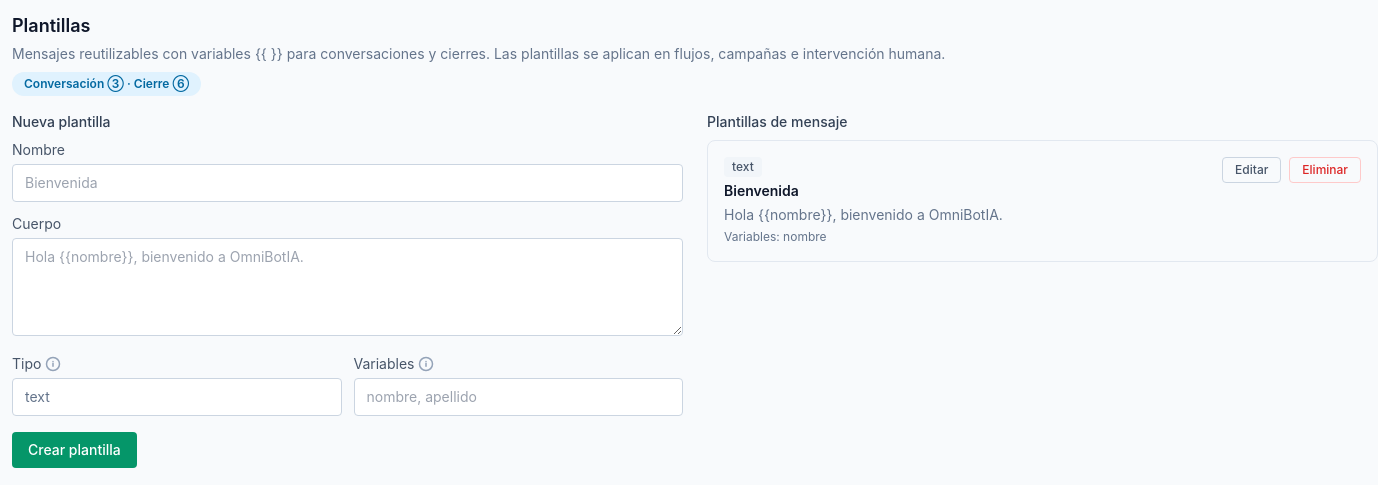
Test: TemplatesSection › elimina una plantilla y vuelve al estado vacío
This screenshot has width=1378, height=485.
Expected: the heading "Bienvenida" is shown, [724,182,799,199]
Step 1. Click the button "Eliminar" → (1325, 170), box [1289,157,1361,183]
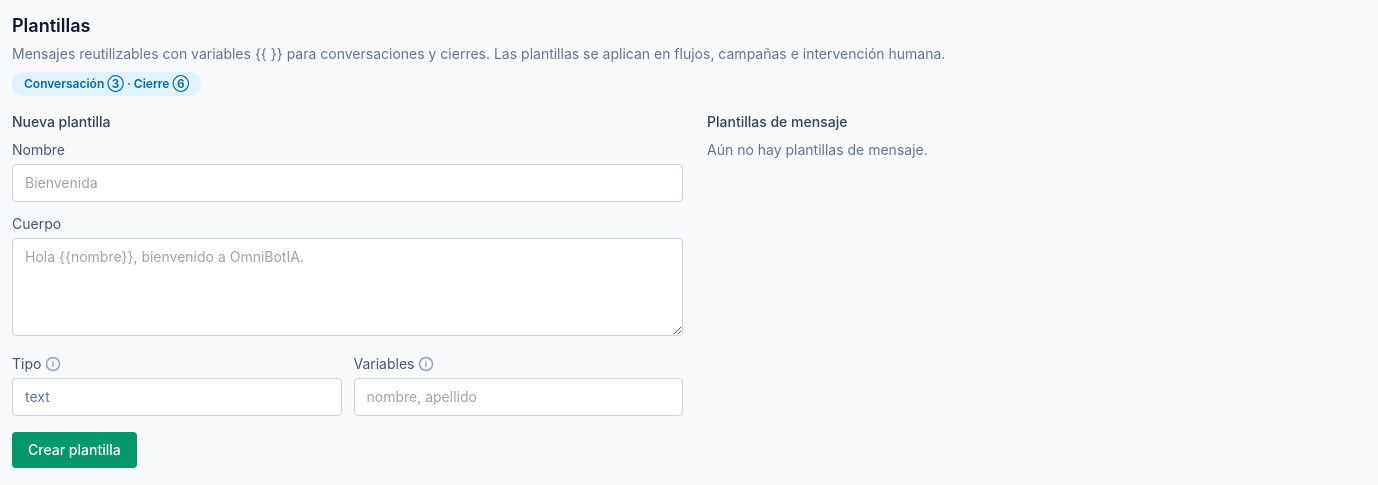
Now the text "Aún no hay plantillas de mensaje." is shown, box [707,141,928,158]
